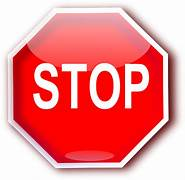stop: (6, 6, 172, 170)
